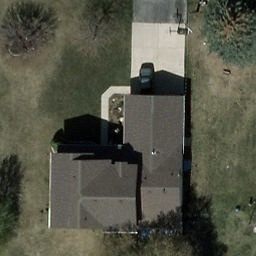car: (138, 70, 156, 100)
